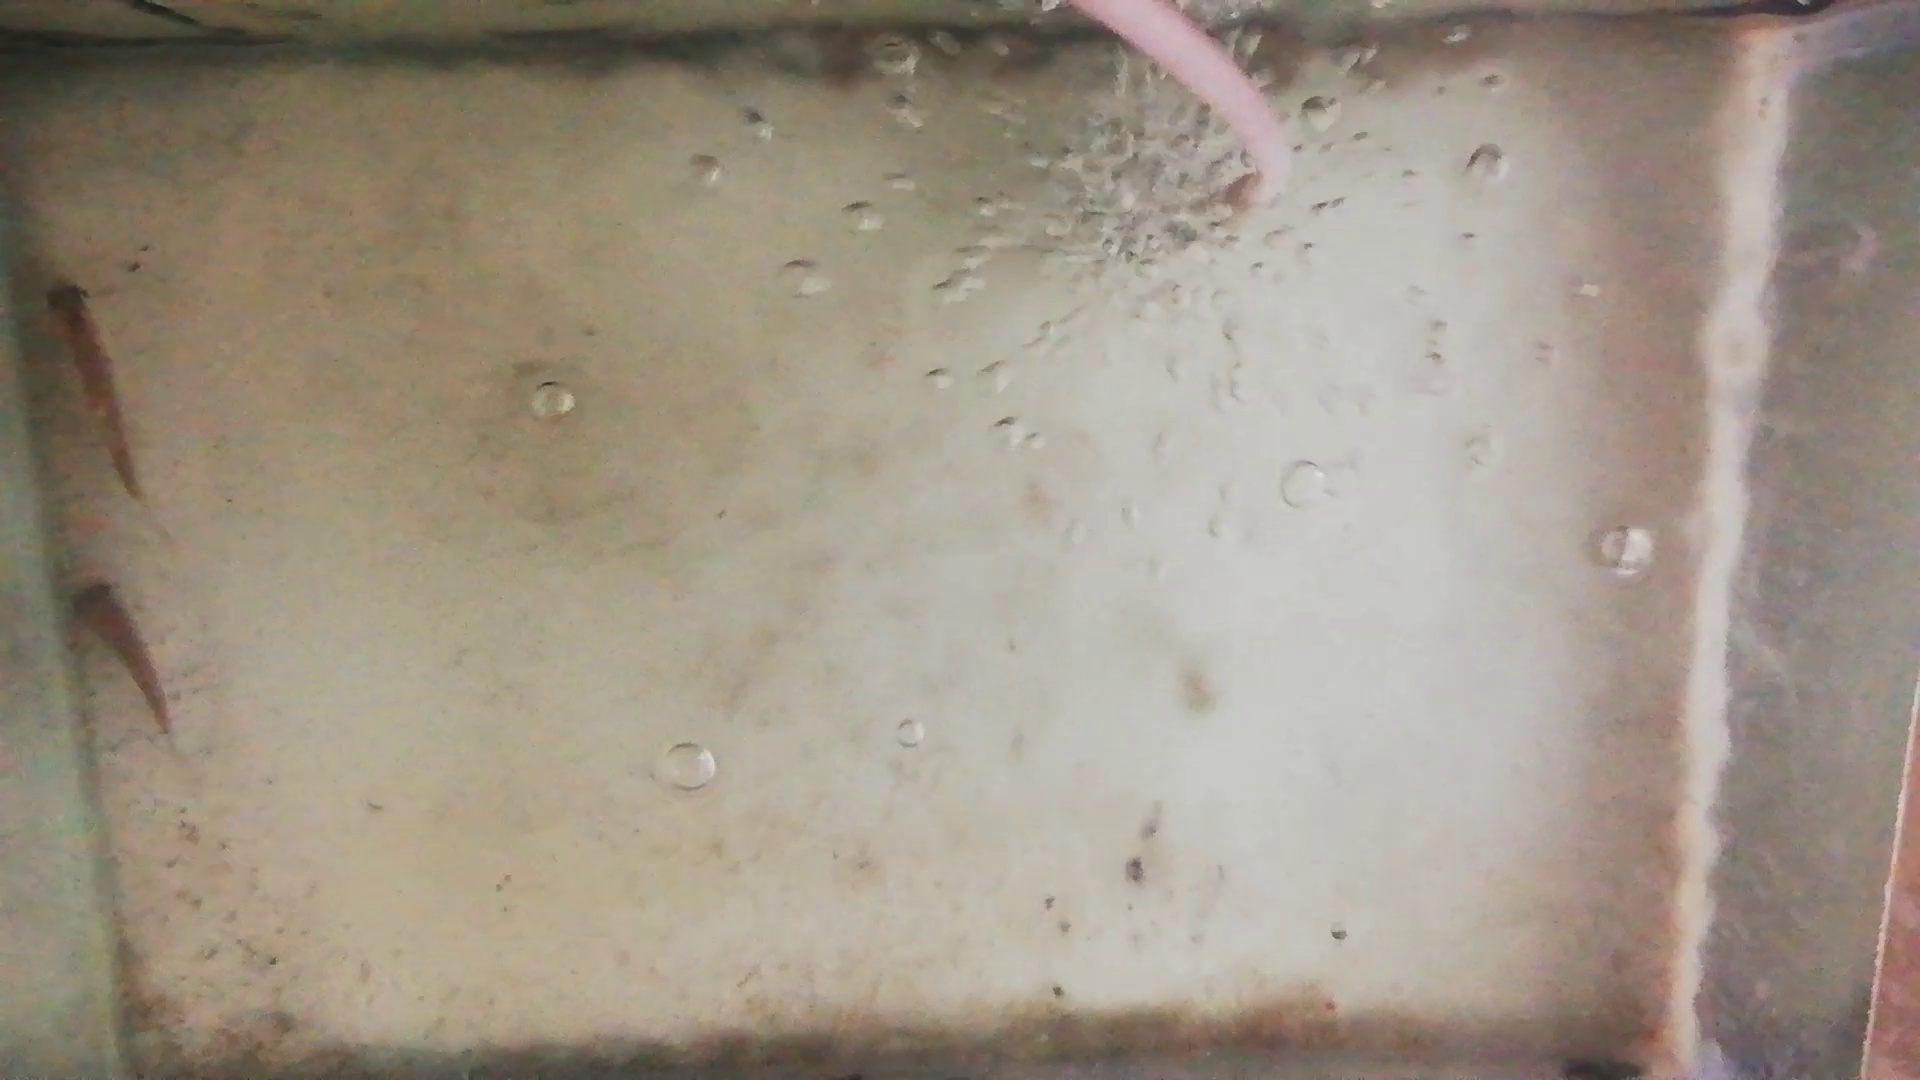fish: (47, 280, 144, 495), (69, 575, 175, 732)
